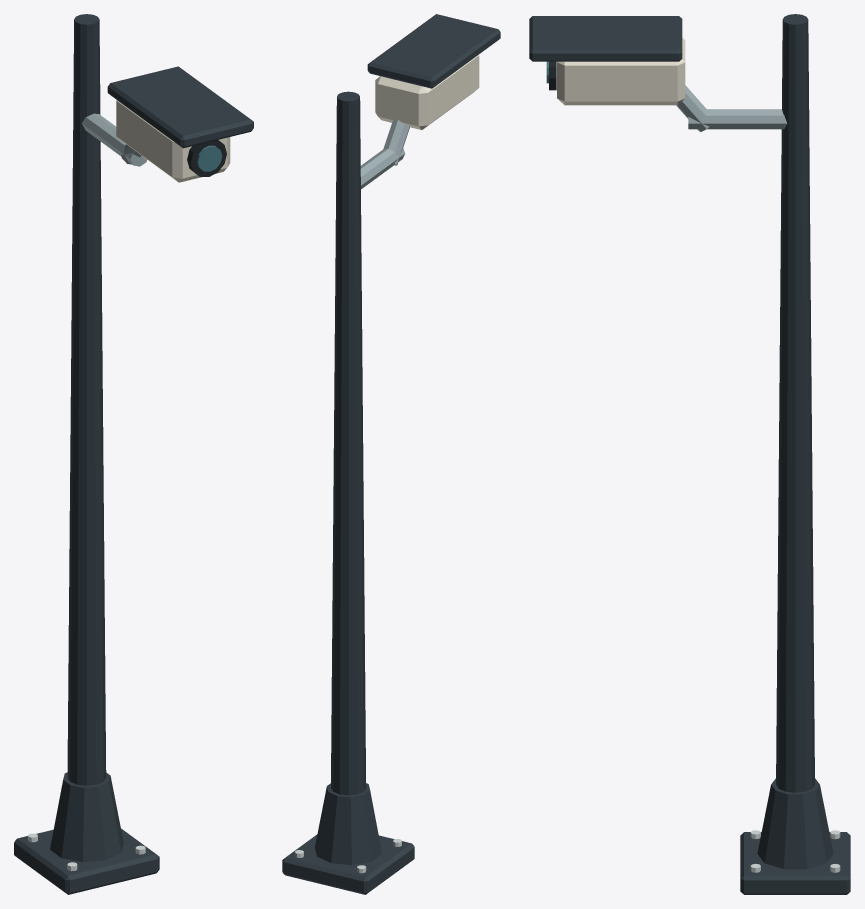
The model's file is CCTV_Pole.glb.
3 renders of one model, left to right at view 1: azimuth 30°, elevation 25°; view 2: azimuth 150°, elevation 25°; view 3: azimuth 270°, elevation 25°, orthographic. The views are drawn at different scales.
Visible parts, largest first — view 1: CCTV_Pole; view 2: CCTV_Pole; view 3: CCTV_Pole.
Part boxes in pixels (x1,y1,x2,y2): CCTV_Pole: (14,14,253,894); CCTV_Pole: (282,14,500,894); CCTV_Pole: (529,14,850,894).
Bounding box in the file's own units: 0.36 × 3.08 × 1.05.
